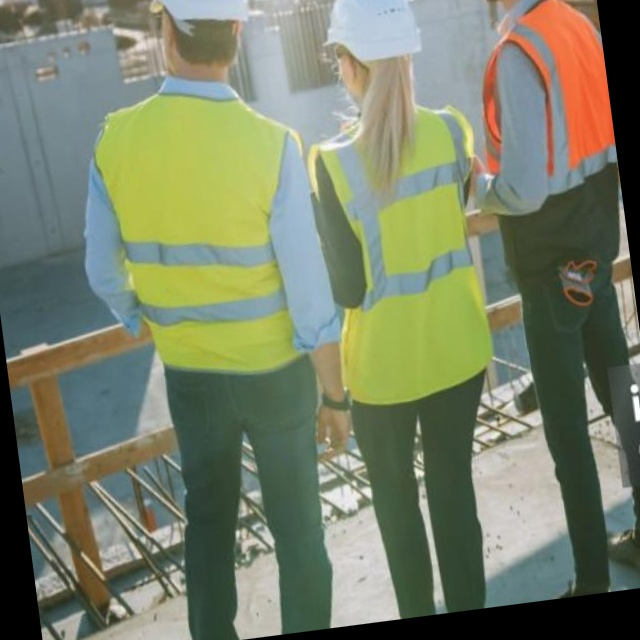Con_Casco: (315, 0, 431, 108), (143, 0, 260, 88), (455, 0, 571, 3)
Con_Chaleco: (93, 83, 332, 392), (303, 98, 506, 408), (464, 0, 631, 287)
